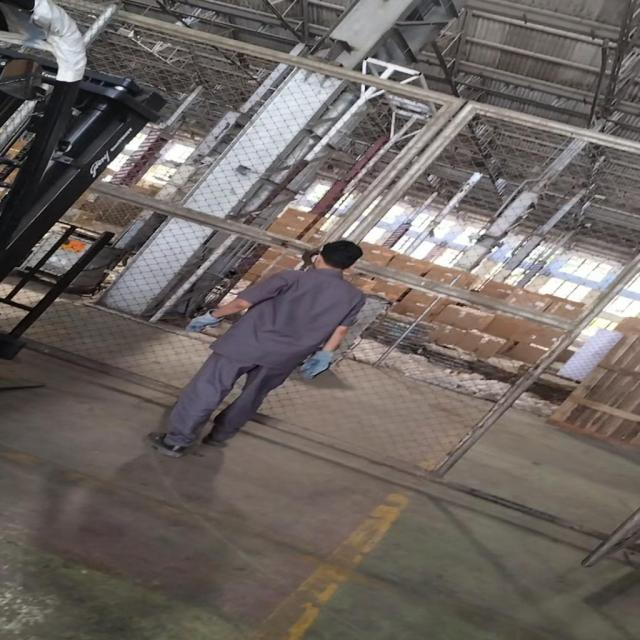Gloves-Detection: (299, 345, 350, 386), (182, 305, 215, 341)
